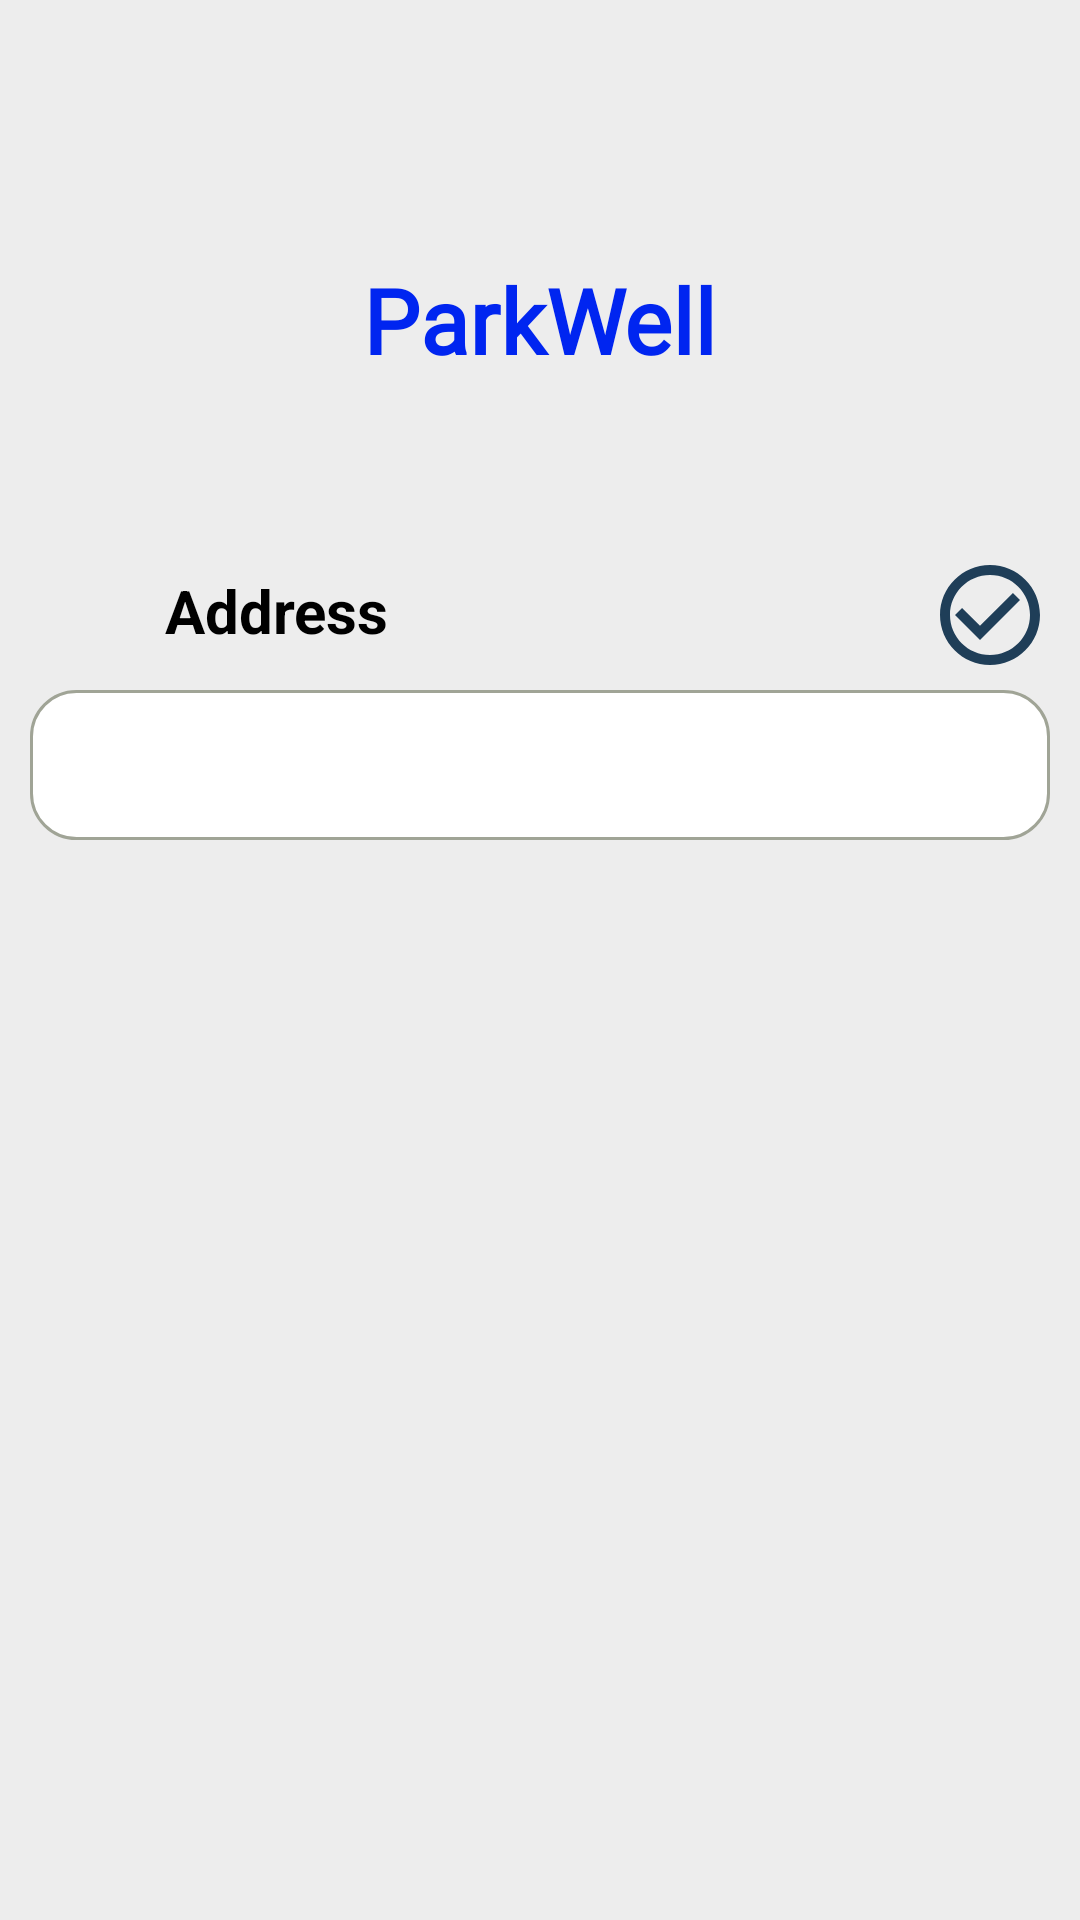

Named icons in this screenshot (1080w x 1920h) and their bounding boxes, {"x1": x1, "y1": y1, "x2": x2, "y2": y2}:
iccheckcircle: {"x1": 940, "y1": 565, "x2": 1040, "y2": 665}
